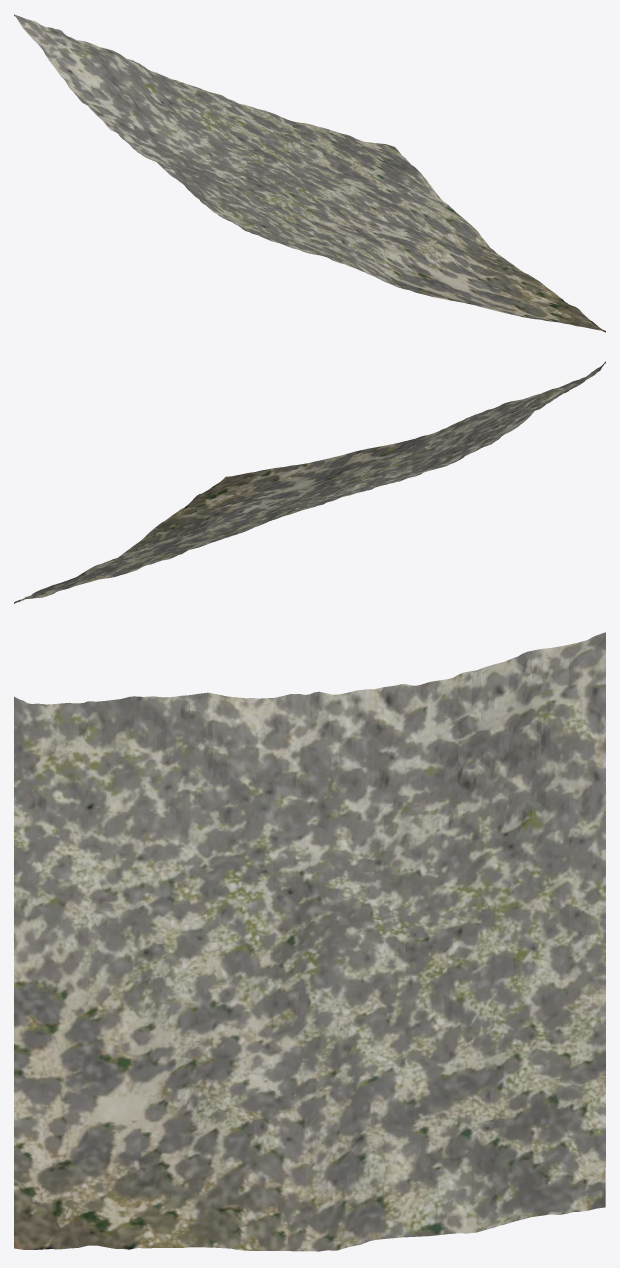
The picture shows the model from 3 angles, top to bottom: view 1: azimuth 30°, elevation 25°; view 2: azimuth 150°, elevation 25°; view 3: azimuth 270°, elevation 25°; orthographic projection. The views are drawn at different scales.
Size of the model in its own units: 250 by 162 by 241.
Materials: 1 (1 with a texture image).
